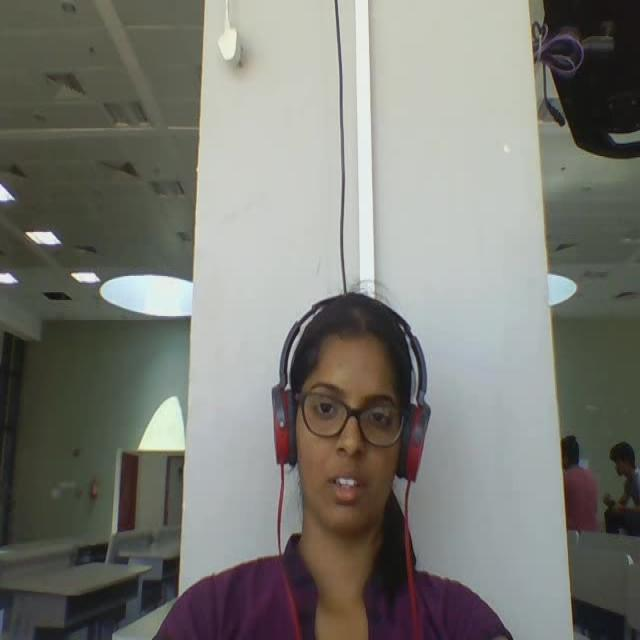Engaged: (252, 276, 456, 588)
